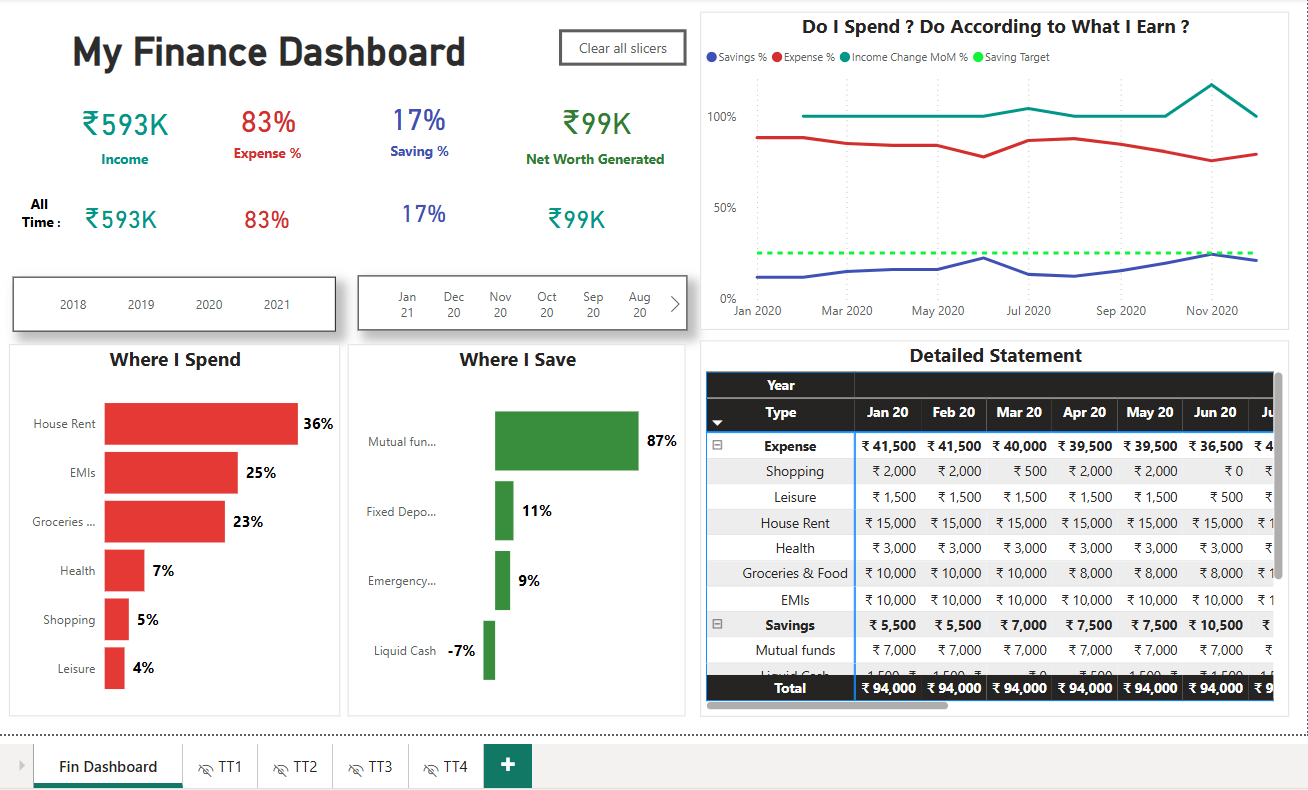

This screenshot's page, from the dashboard's own definition file:
{"tool":"powerbi","page":{"name":"Fin Dashboard","canvas":[1280,720],"ordinal":0},"visuals":[{"type":"card","fields":{"Values":["Key Measures.Total Income"]},"box":[68.2,86.4,109.8,70.2],"z":0,"group":"g1"},{"type":"slicer","fields":{"Values":["FinData.Data"]},"box":[351.3,271.7,322.5,53.5],"z":0},{"type":"card","fields":{"Values":["Key Measures.Total Saving"]},"box":[508.2,89.2,152.5,64.9],"z":1000,"group":"g4"},{"type":"pivotTable","title":"Detailed Statement","fields":{"Values":["Sum(FinData.Value)"],"Rows":["Type.Type","FinData.Component"],"Columns":["FinData.Year","FinData.Date"]},"box":[686.1,334.8,576.3,367.8],"z":1000},{"type":"card","fields":{"Values":["Key Measures.Savings %"]},"box":[351.3,94.7,118.6,46.6],"z":2000,"group":"g3"},{"type":"card","fields":{"Values":["Key Measures.Total Income"]},"box":[67.2,181.1,104.3,70],"z":2000},{"type":"card","fields":{"Values":["Key Measures.Expense %"]},"box":[205.9,89.2,116.6,59.3],"z":3000,"group":"g2"},{"type":"card","fields":{"Values":["Key Measures.Total Saving"]},"box":[507.7,181.1,115.3,70],"z":3000},{"type":"textbox","box":[67.2,142.5,111.1,30.2],"z":4000,"group":"g1"},{"type":"card","fields":{"Values":["Key Measures.Savings %"]},"box":[356.8,170.2,116.6,81],"z":4000},{"type":"textbox","box":[205.8,137.2,114.2,35.7],"z":5000,"group":"g2"},{"type":"card","fields":{"Values":["Key Measures.Expense %"]},"box":[205.8,181.1,113.9,70],"z":5000},{"type":"textbox","box":[506.3,143,153.7,32.1],"z":6000,"group":"g4"},{"type":"textbox","box":[0,186.6,82.3,60.4],"z":6000},{"type":"group","id":"g1","title":"Group 1","box":[67.2,86.4,111.1,86.4],"z":7000},{"type":"textbox","box":[352.6,136.6,118.1,33.6],"z":7000,"group":"g3"},{"type":"group","id":"g2","title":"Group 2","box":[205.8,89.2,116.6,83.7],"z":8000},{"type":"group","id":"g3","title":"Group 3","box":[351.3,94.7,119.4,75.5],"z":9000},{"type":"group","id":"g4","title":"Group 4","box":[506.3,89.2,155.1,86.4],"z":10000},{"type":"slicer","fields":{"Values":["FinData.Year"]},"box":[13.7,273.1,315.6,53.5],"z":11000},{"type":"actionButton","box":[547.5,30.2,124.9,35.7],"z":12000},{"type":"card","fields":{"Values":["Key Measures.Tital"]},"box":[8.2,9.6,511.8,76.8],"z":13000},{"type":"clusteredBarChart","title":"Where I Spend","fields":{"Category":["FinData.Component"],"Y":["Key Measures.Total Expense"]},"box":[9.6,338.9,323.8,363.6],"z":14000},{"type":"lineChart","title":"Do I Spend ? Do According to What I Earn ?","fields":{"Y":["Key Measures.Savings %","Key Measures.Expense %","Key Measures.Income Change MoM %","Key Measures.Saving Target"],"Category":["FinData.Data"]},"box":[686.1,13.7,576.3,311.5],"z":16000},{"type":"clusteredBarChart","title":"Where I Save","fields":{"Category":["FinData.Component"],"Y":["Key Measures.Total Saving"]},"box":[341.7,338.9,330.7,363.6],"z":17000}]}

Visuals, with their boxes on the page's 1280x720 design canvas (x1, y1, x2, y2). These are canvas units, not pixel positions in the 1308x790 screenshot, which may show the page scaled, cropped or inside an application window:
card - Key Measures.Total Income: crop(68, 86, 178, 157)
slicer - FinData.Data: crop(351, 272, 674, 325)
card - Key Measures.Total Saving: crop(508, 89, 661, 154)
"Detailed Statement" pivotTable: crop(686, 335, 1262, 703)
card - Key Measures.Savings %: crop(351, 95, 470, 141)
card - Key Measures.Total Income: crop(67, 181, 172, 251)
card - Key Measures.Expense %: crop(206, 89, 322, 148)
card - Key Measures.Total Saving: crop(508, 181, 623, 251)
textbox: crop(67, 142, 178, 173)
card - Key Measures.Savings %: crop(357, 170, 473, 251)
textbox: crop(206, 137, 320, 173)
card - Key Measures.Expense %: crop(206, 181, 320, 251)
textbox: crop(506, 143, 660, 175)
textbox: crop(0, 187, 82, 247)
"Group 1" group: crop(67, 86, 178, 173)
textbox: crop(353, 137, 471, 170)
"Group 2" group: crop(206, 89, 322, 173)
"Group 3" group: crop(351, 95, 471, 170)
"Group 4" group: crop(506, 89, 661, 176)
slicer - FinData.Year: crop(14, 273, 329, 327)
actionButton: crop(548, 30, 672, 66)
card - Key Measures.Tital: crop(8, 10, 520, 86)
"Where I Spend" clusteredBarChart: crop(10, 339, 333, 702)
"Do I Spend ? Do According to What I Earn ?" lineChart: crop(686, 14, 1262, 325)
"Where I Save" clusteredBarChart: crop(342, 339, 672, 702)
